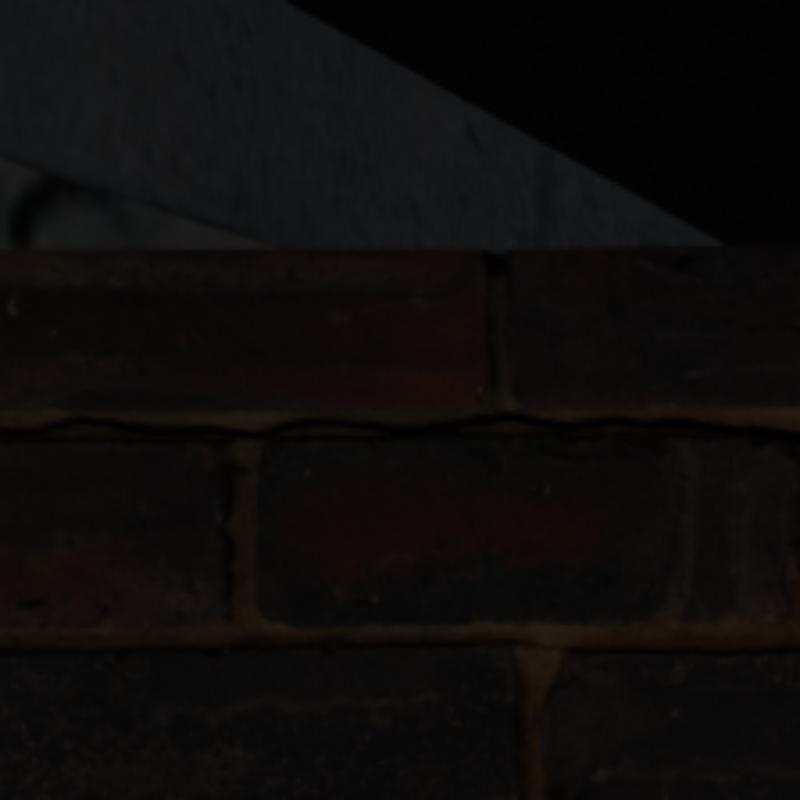pothole: (0, 411, 796, 439)
